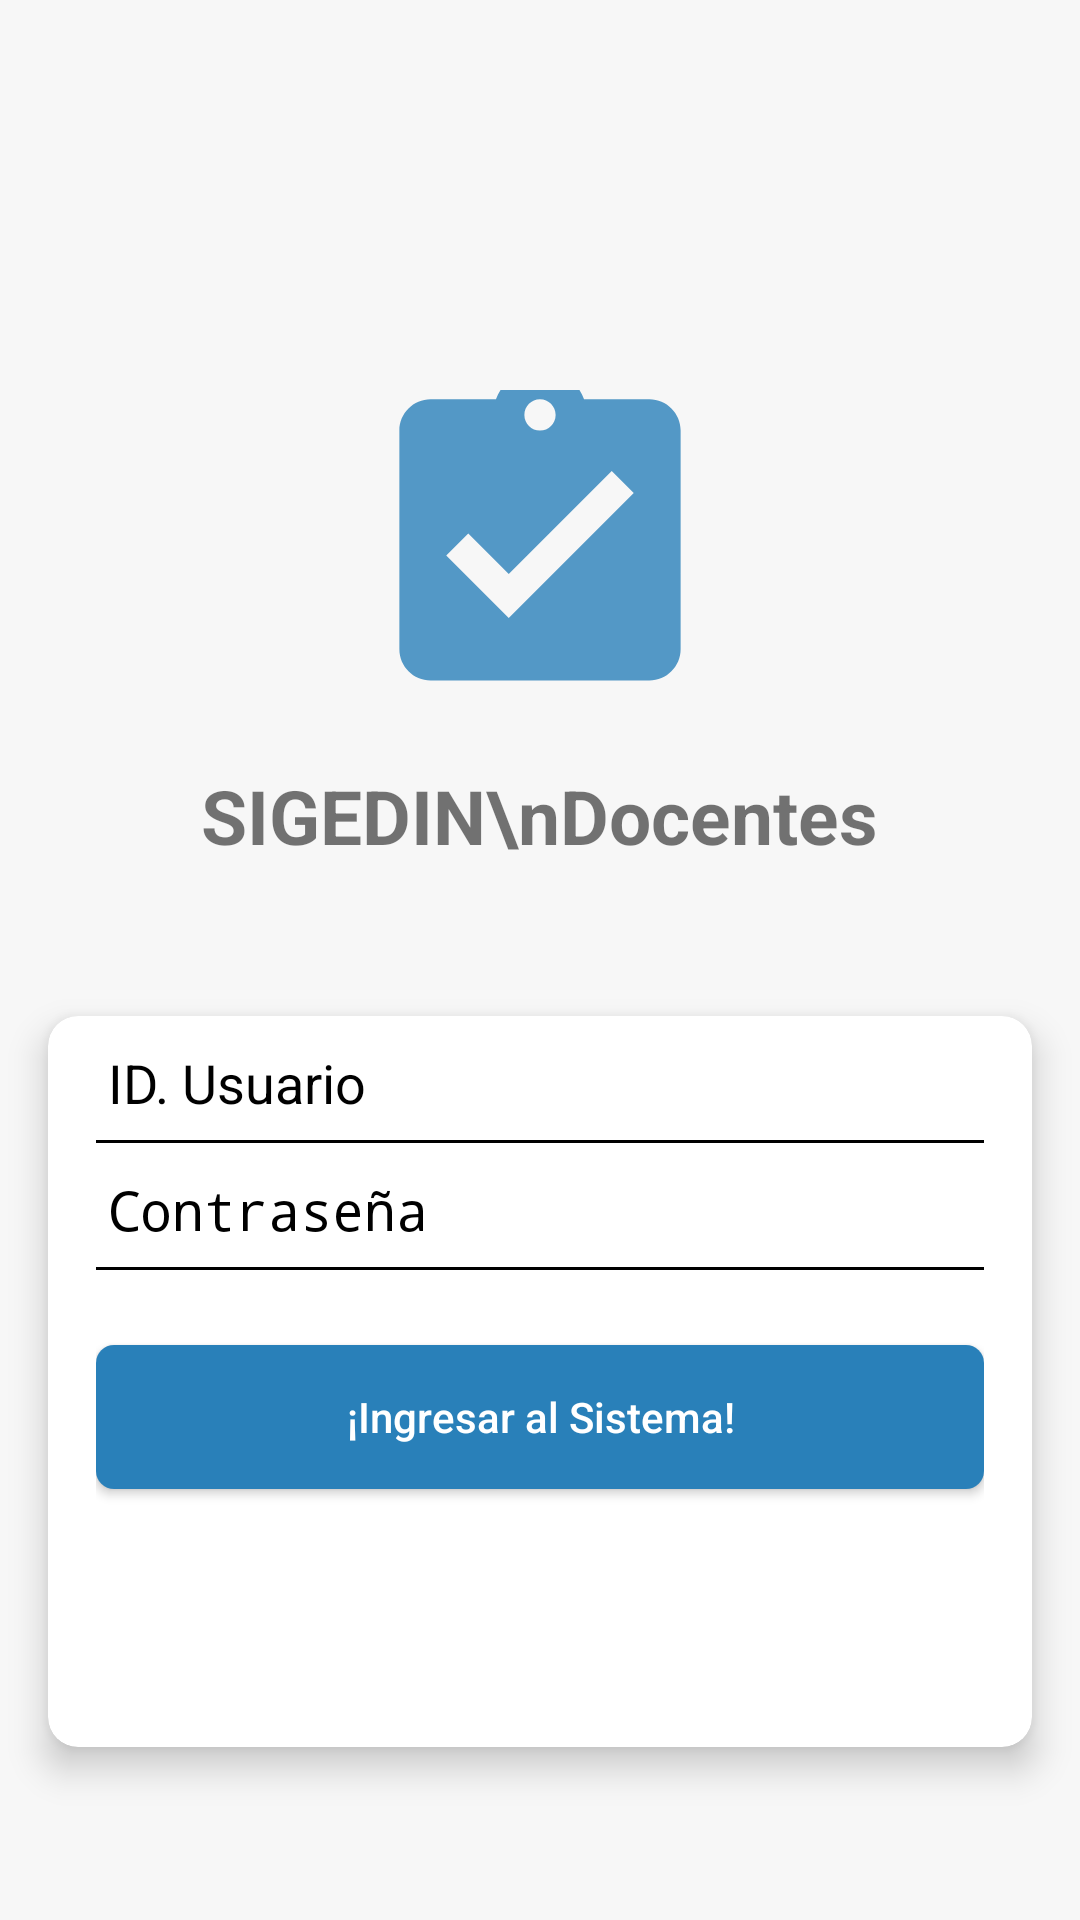

Icons on this 1080px x 1920px Android screen, each with the point to tap as point (x, y):
check: point (540, 535)
